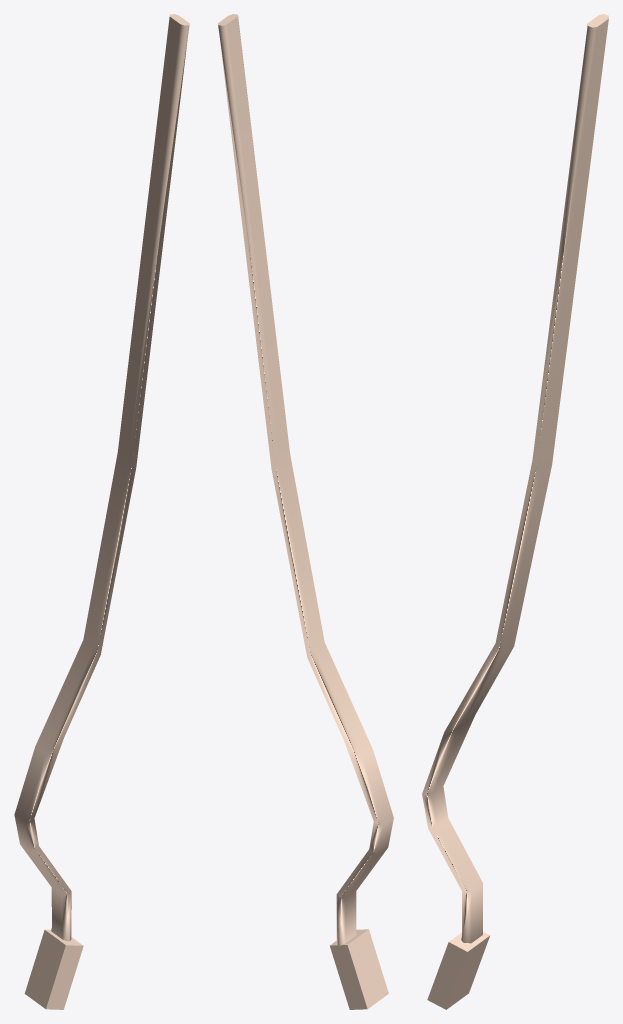
The model's file is Sautoir_v2 tige.obj.
3 views of the same model, side by side, from view 1: azimuth 30°, elevation 25°; view 2: azimuth 150°, elevation 25°; view 3: azimuth 330°, elevation 25° (orthographic). The views are drawn at different scales.
Visible parts, largest first — view 1: Face_14, Face_11, Face_3, Face_6; view 2: Face_14, Face_12, Face_3, Face_5; view 3: Face_11, Face_10, Face_6, Face_2.
Part boxes in pixels (x1,y1,x2,y2): Face_14: (14, 17, 180, 938); Face_11: (25, 24, 189, 941); Face_3: (24, 930, 65, 1008); Face_6: (46, 945, 83, 1009); Face_14: (227, 16, 393, 942); Face_12: (218, 24, 383, 945); Face_3: (347, 929, 388, 1008); Face_5: (330, 945, 367, 1009); Face_11: (422, 23, 597, 943); Face_10: (432, 18, 608, 942); Face_6: (427, 942, 467, 1009); Face_2: (446, 936, 489, 1009).
Bounding box in the file's own units: 0.0179 × 0.0985 × 0.004.
